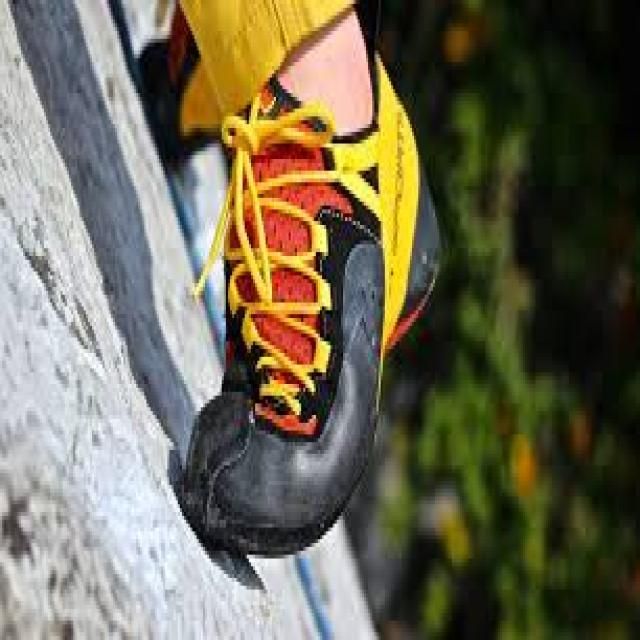climbing-shoes: (182, 0, 444, 560)
